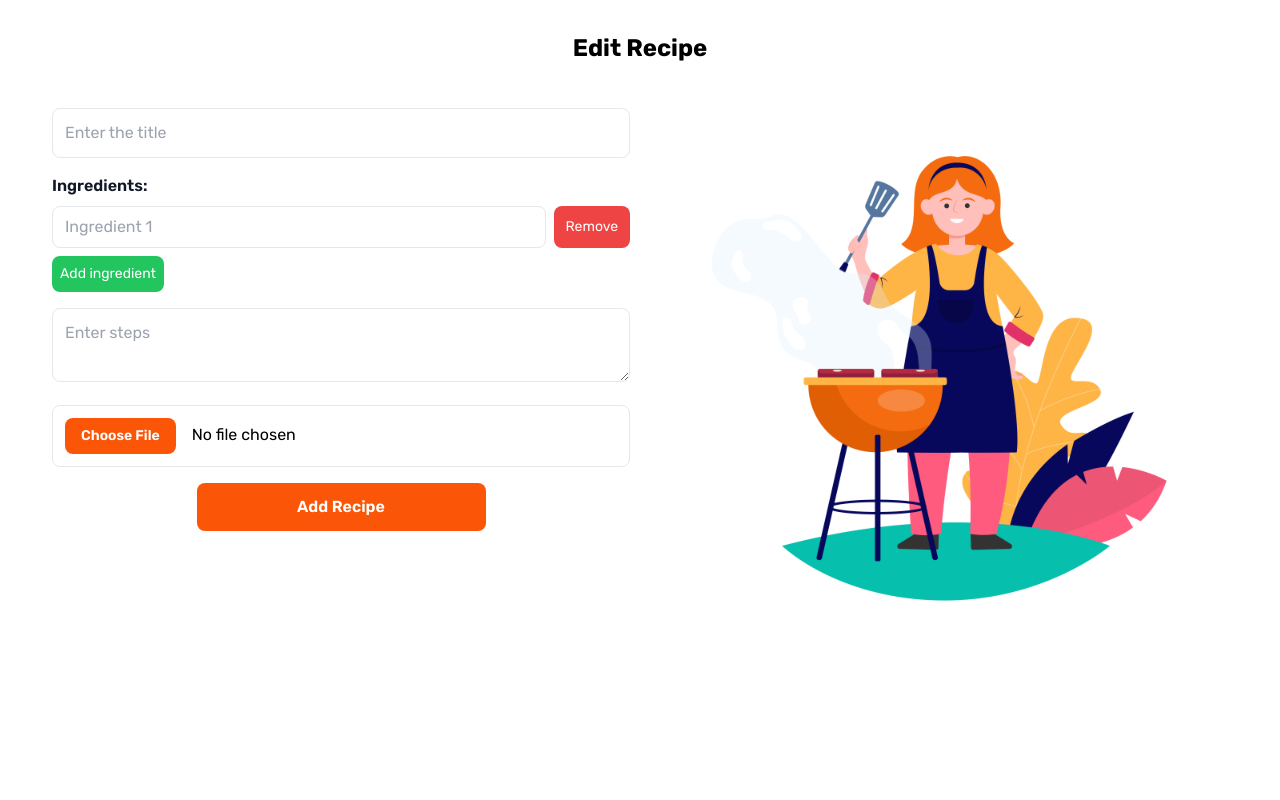
it: EditRecipePage Component › displays validation errors when fields are empty
// Submit empty form
Click the button "Add Recipe": (341,507) [196, 483, 486, 531]
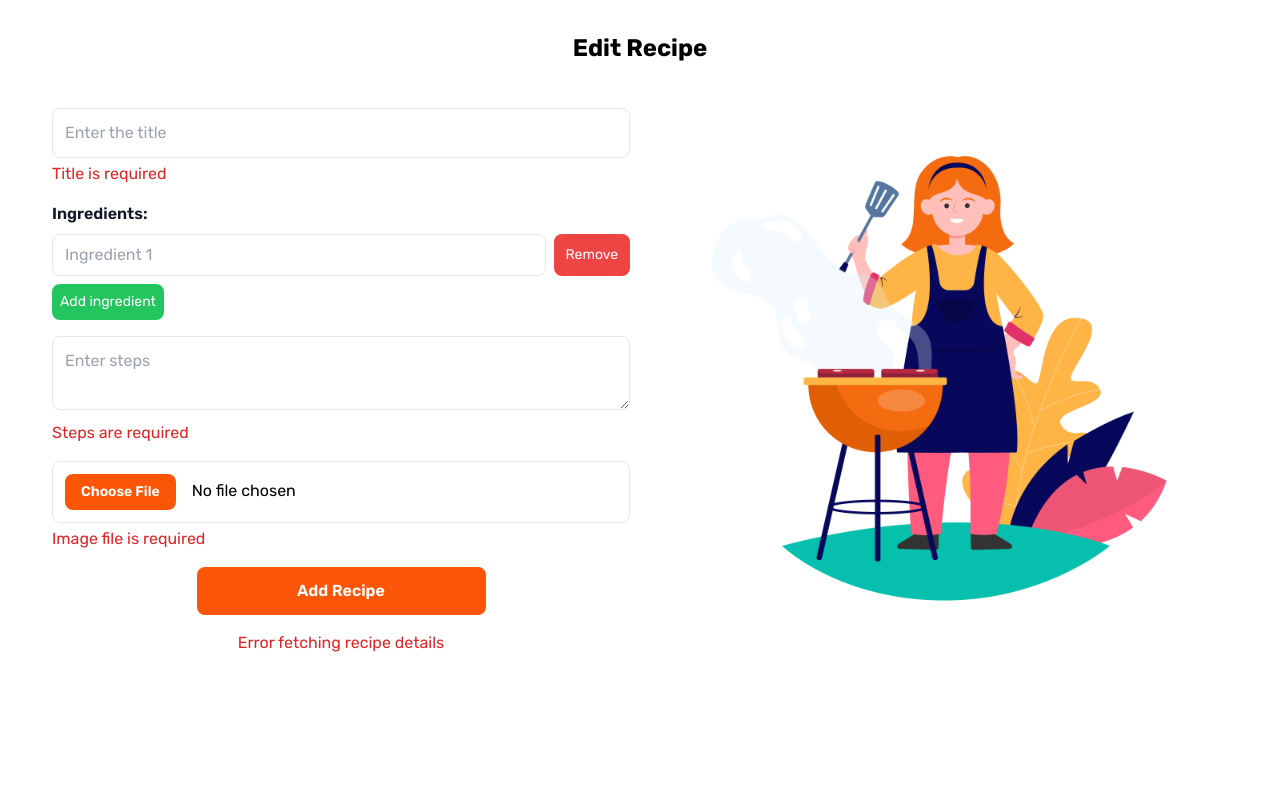
Expected: the text "Title is required" is shown, [52, 164, 166, 183]
Expected: the text "Steps are required" is shown, [52, 423, 189, 442]
Expected: the text "Image file is required" is shown, [52, 529, 205, 548]
